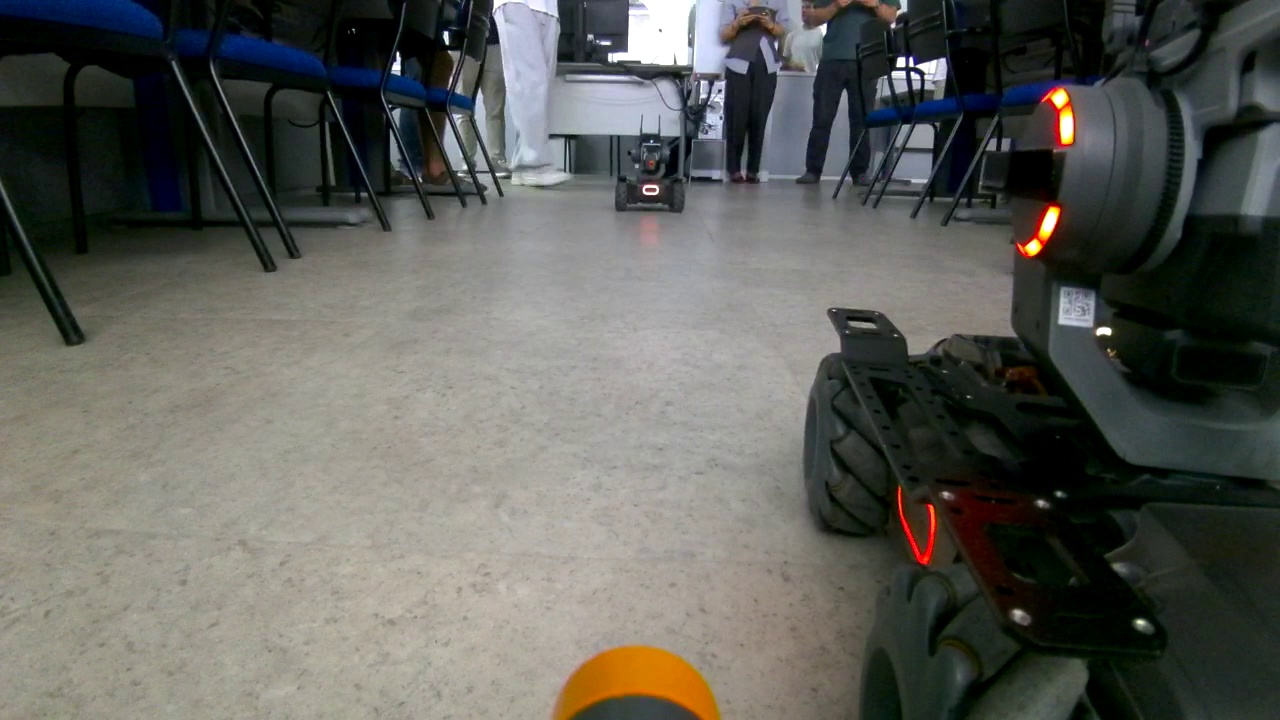robot: (798, 2, 1280, 720), (613, 112, 692, 216)
